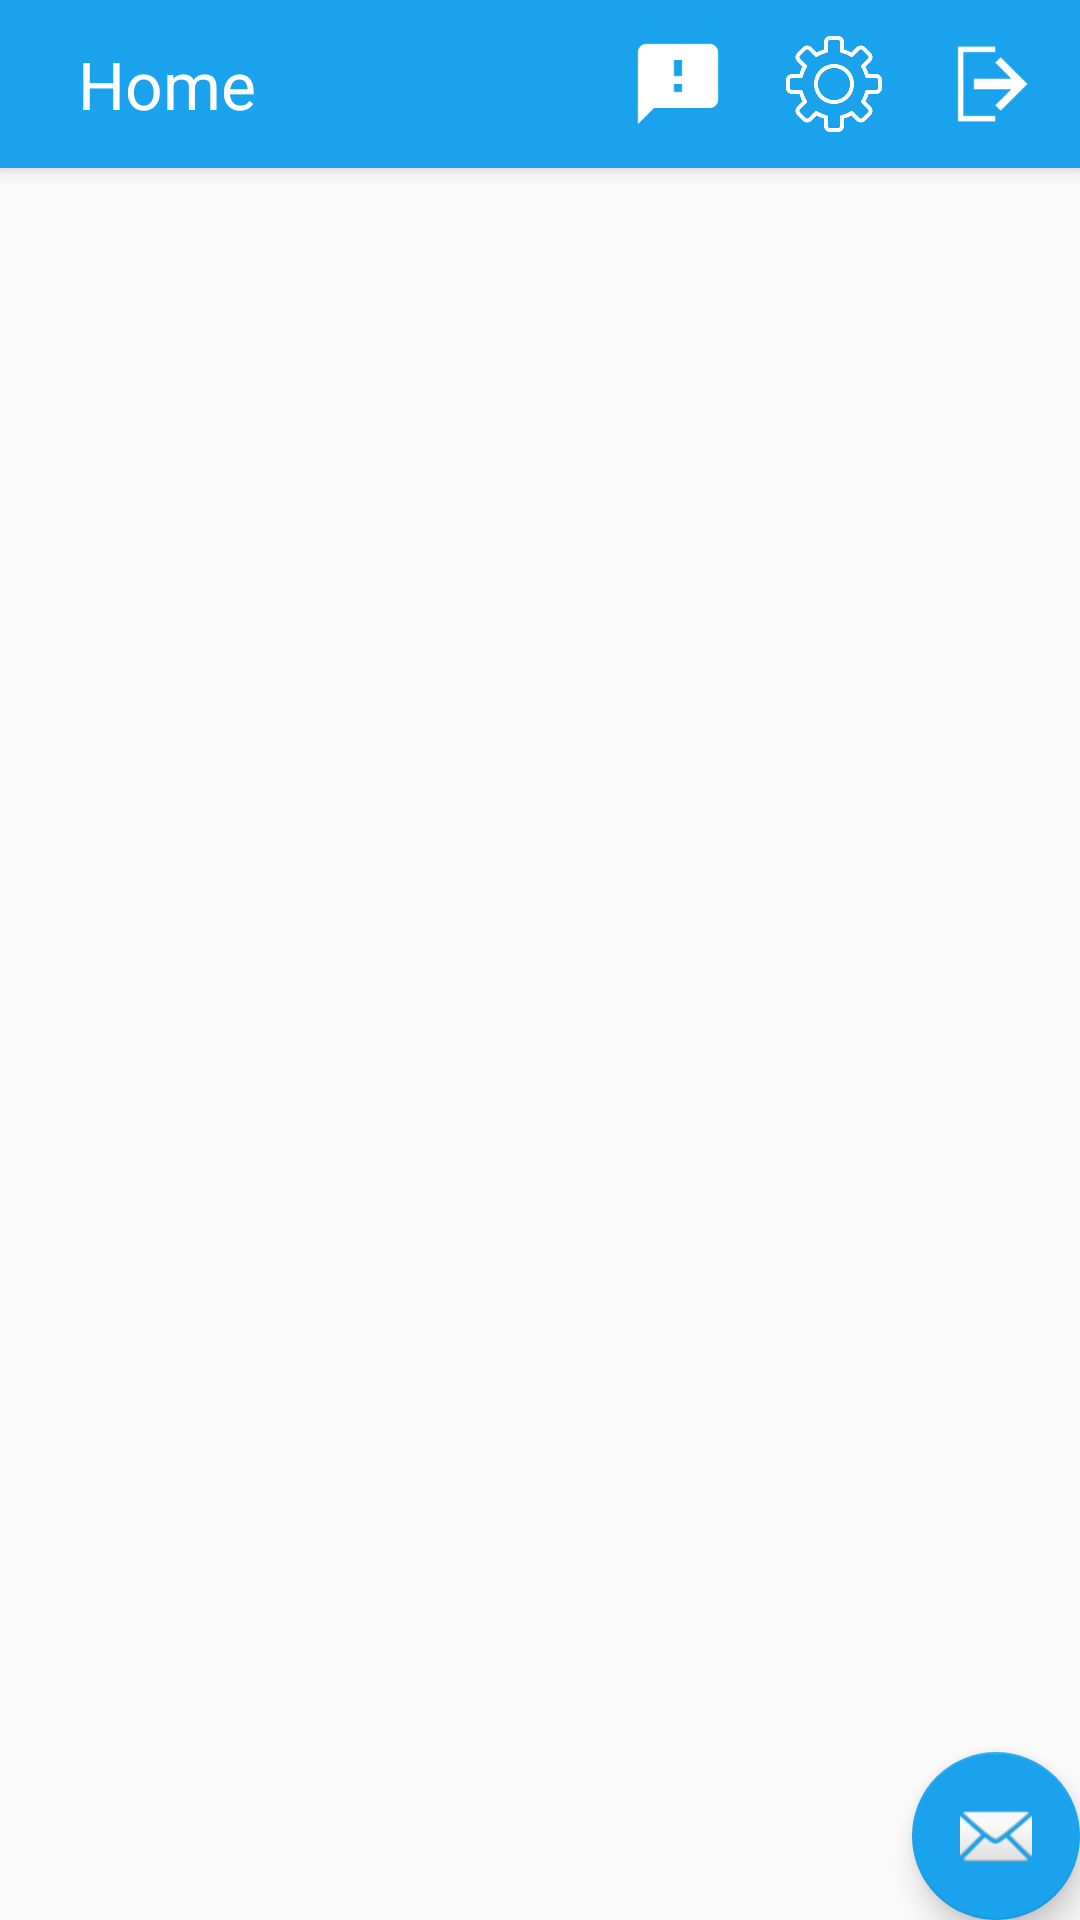

Named icons in this screenshot (1080px x 1920px) and their bounding boxes, bbox=[x1, y1, x2, y2]:
email: bbox=[912, 1752, 1080, 1920]
feedback: bbox=[637, 43, 719, 124]
gear: bbox=[786, 36, 882, 132]
